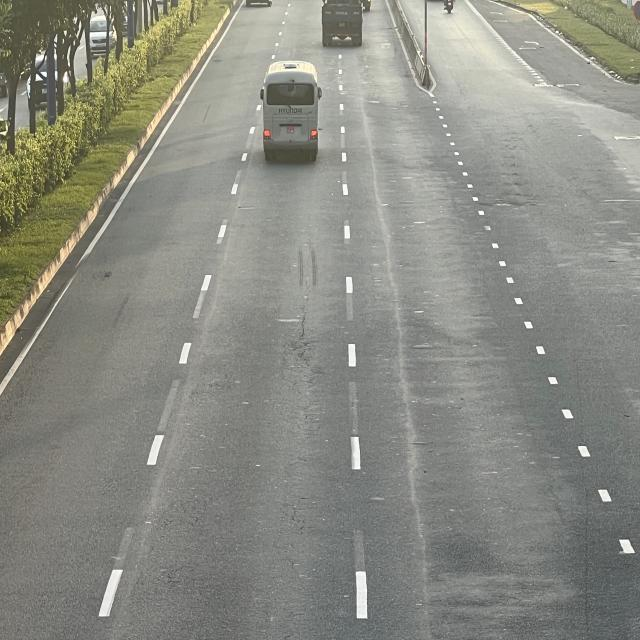coach: (261, 60, 323, 158)
